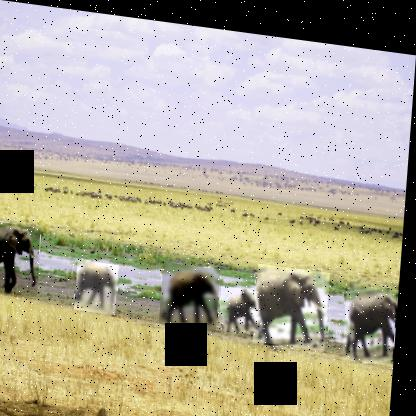Elephas-maximus: (257, 256, 335, 343), (347, 273, 401, 356), (163, 257, 225, 326), (0, 219, 46, 299), (79, 257, 124, 313), (223, 279, 264, 328)
